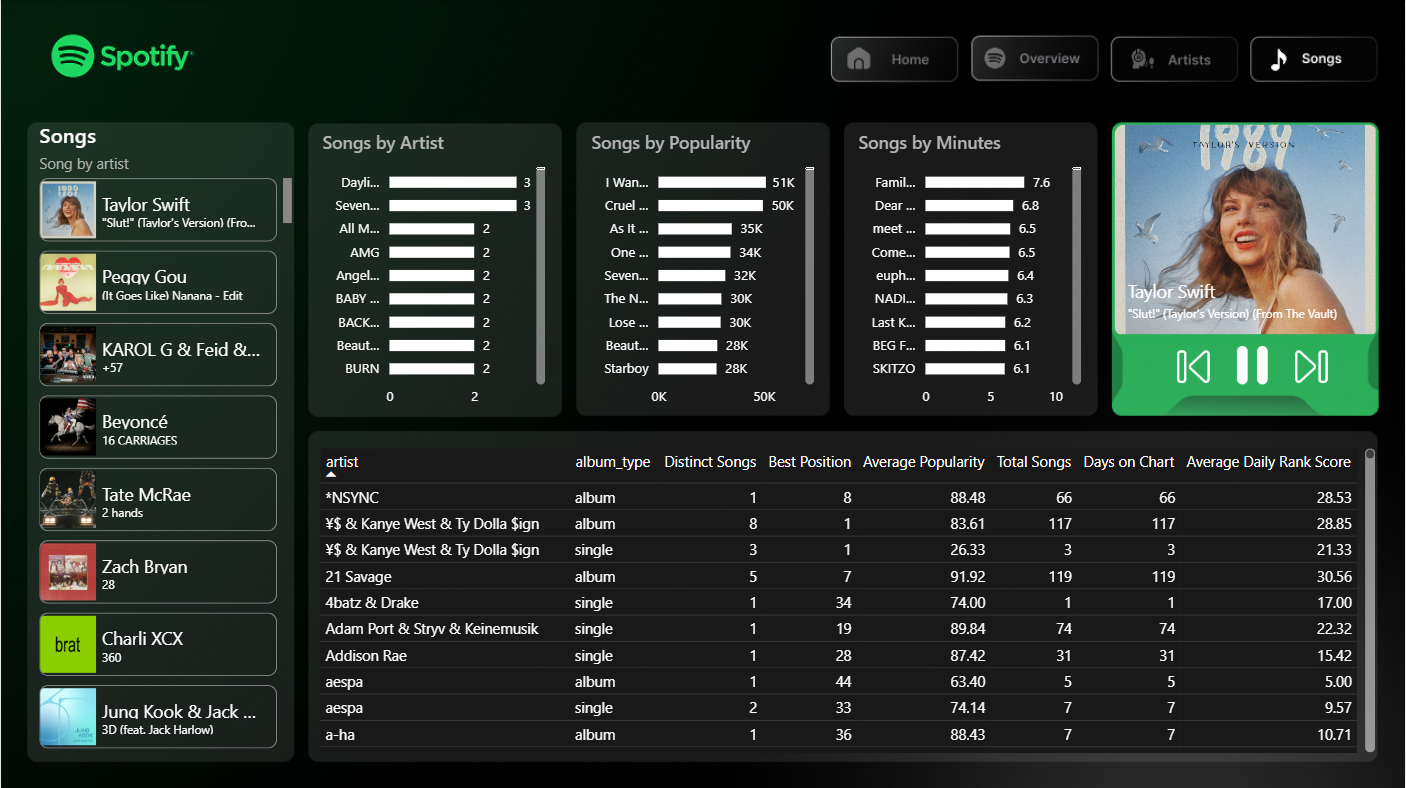

Layout of this report page (visuals, bound fields, positions):
{"tool":"powerbi","page":{"name":"Songs","canvas":[1280,720],"ordinal":3},"visuals":[{"type":"group","id":"g1","title":"Group 1","box":[754.2,28.6,503.7,46.7],"z":0},{"type":"actionButton","box":[754.2,28.6,118.1,46.7],"z":0,"group":"g1"},{"type":"image","box":[1111.2,315.5,58.4,35.1],"z":0},{"type":"actionButton","box":[882.7,28.6,118.1,46.7],"z":1000,"group":"g1"},{"type":"image","box":[1169.7,316.8,50.6,33.8],"z":1000},{"type":"tableEx","fields":{"Values":["Top-50-World.artist","Top-50-World.album_type","_Measures.Distinct Songs","_Measures.Best Position","_Measures.Average Popularity","_Measures.Total Songs","_Measures.Days on Chart","_Measures.Average Daily Rank Score"]},"box":[285.6,403.7,972.3,286.9],"z":1000},{"type":"actionButton","box":[1011.2,28.6,118.1,46.7],"z":2000,"group":"g1"},{"type":"image","box":[1061.9,316.8,49.3,33.8],"z":2000},{"type":"actionButton","box":[1139.8,28.6,118.1,46.7],"z":3000,"group":"g1"},{"type":"advancedSlicerVisual","title":"Songs","fields":{"Values":["Top-50-World.song"]},"box":[29.9,110.3,240.2,579],"z":3000},{"type":"shape","box":[1006.1,110.3,251.8,268.7],"z":3000},{"type":"barChart","title":"Songs by Artist","fields":{"Y":["_Measures.Distinct Artists"],"Category":["Top-50-World.song"]},"box":[288.2,118.1,212.9,260.9],"z":3001},{"type":"barChart","title":"Songs by Popularity","fields":{"Category":["Top-50-World.song"],"Y":["Sum(Top-50-World.popularity)"]},"box":[533.5,118.1,212.9,260.9],"z":3002},{"type":"barChart","title":"Songs by Minutes ","fields":{"Y":["_Measures.Average Duration (Min)"],"Category":["Top-50-World.song"]},"box":[776.3,118.1,212.9,260.9],"z":3003},{"type":"advancedSlicerVisual","title":"Songs","fields":{"Values":["Top-50-World.song"]},"box":[988.9,107.6,290.8,203.8],"z":18000}]}

Visuals, with their boxes in screenshot pixels (x1, y1, x2, y2), scaled from the page's 1280x720 canvas onto the 1406x788 screenshot:
"Group 1" group: Rect(828, 31, 1382, 82)
actionButton: Rect(828, 31, 958, 82)
image: Rect(1221, 345, 1285, 384)
actionButton: Rect(970, 31, 1099, 82)
image: Rect(1285, 347, 1340, 384)
tableEx - Top-50-World.artist x Top-50-World.album_type: Rect(314, 442, 1382, 756)
actionButton: Rect(1111, 31, 1240, 82)
image: Rect(1166, 347, 1221, 384)
actionButton: Rect(1252, 31, 1382, 82)
"Songs" advancedSlicerVisual: Rect(33, 121, 297, 754)
shape: Rect(1105, 121, 1382, 415)
"Songs by Artist" barChart: Rect(317, 129, 550, 415)
"Songs by Popularity" barChart: Rect(586, 129, 820, 415)
"Songs by Minutes " barChart: Rect(853, 129, 1087, 415)
"Songs" advancedSlicerVisual: Rect(1086, 118, 1405, 341)
